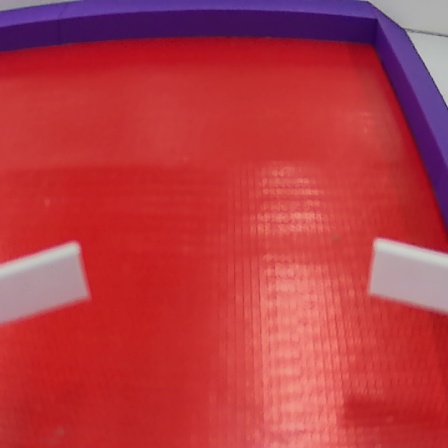red_aim: (1, 2, 448, 448)
